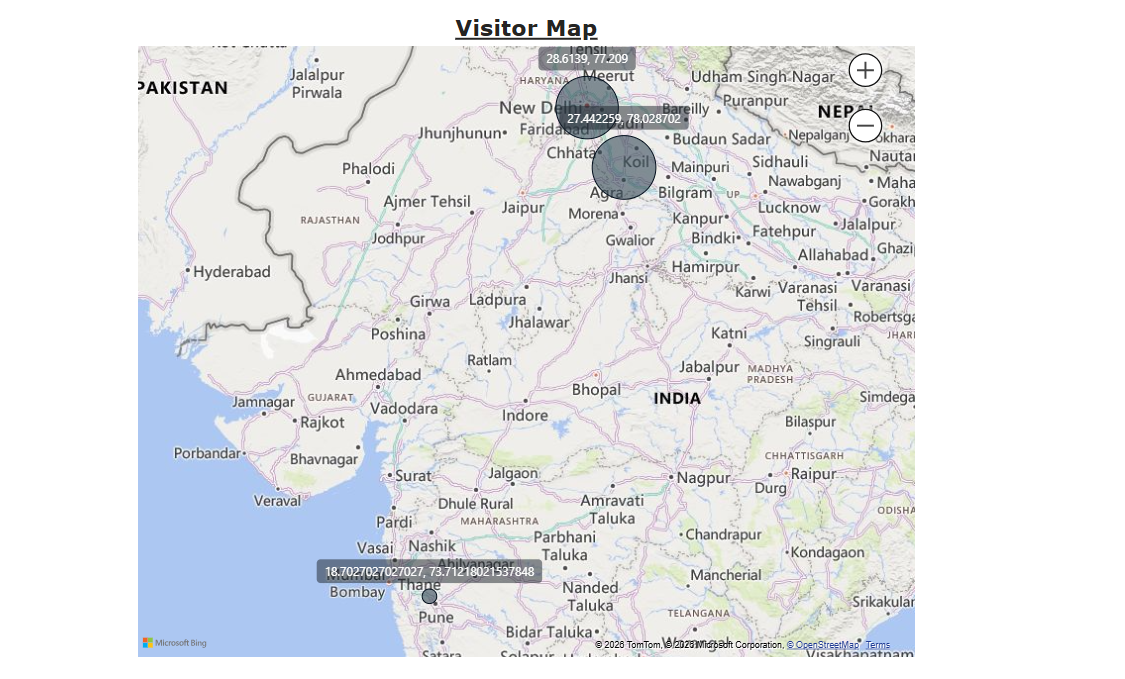

This screenshot's page, from the dashboard's own definition file:
{"tool":"powerbi","page":{"name":"Page 4","canvas":[1280,720],"ordinal":3},"visuals":[{"type":"map","title":"Visitor Map","fields":{"Y":["data (2).latitude"],"X":["data (2).longitude"],"Size":["data (2).Total QR scans"]},"box":[242.9,32.9,794.3,654.3],"z":0}]}

Visuals, with their boxes on the page's 1280x720 design canvas (x1, y1, x2, y2). These are canvas units, not pixel positions in the 1125x679 screenshot, which may show the page scaled, cropped or inside an application window:
"Visitor Map" map: region(243, 33, 1037, 687)
